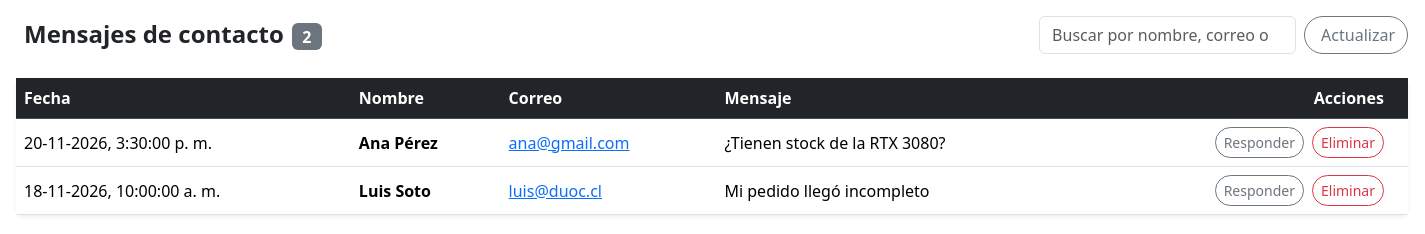
Test: AdminContactos › eliminar pide confirmación, borra en ms-contacto y quita la fila
Click the button "Eliminar" in the row of "20-11-2026, 3:30:00 p. m." at x=1348, y=142, box top-left (1312, 127), bottom-right (1384, 158)
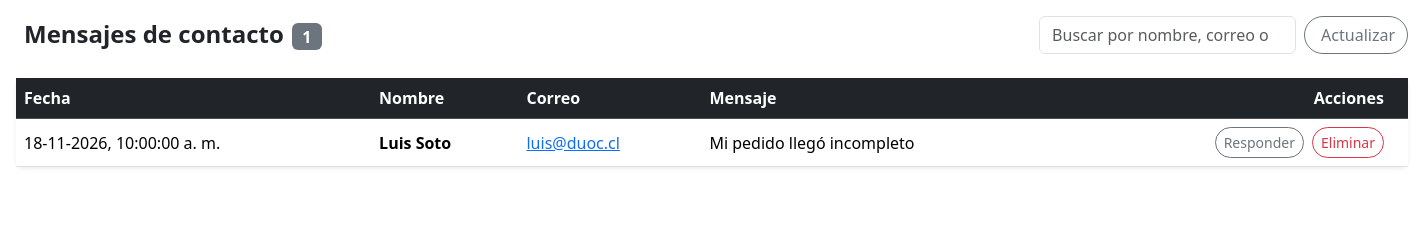
expect the text "Luis Soto" is shown: met, box top-left (371, 118), bottom-right (518, 166)
expect the text "Ana Pérez" is gone: met
